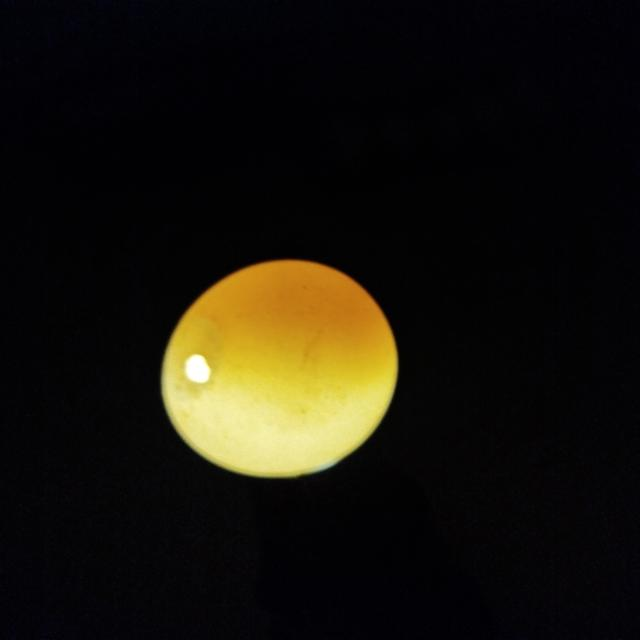Camara de Ar: (165, 316, 222, 398)
